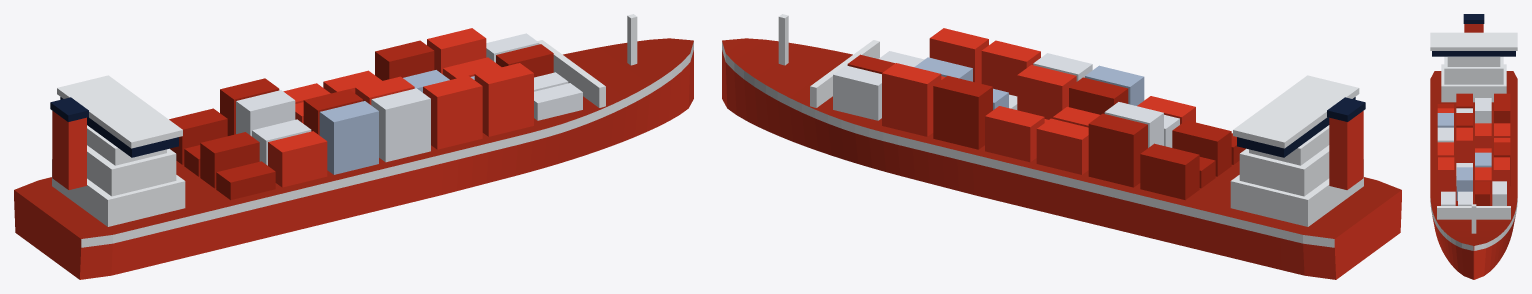
Rendered from ship.glb.
The picture shows the model from 3 angles, left to right: view 1: azimuth 30°, elevation 25°; view 2: azimuth 150°, elevation 25°; view 3: azimuth 270°, elevation 25°; orthographic projection. The views are drawn at different scales.
Parts seen in each view (by area): view 1: Ship; view 2: Ship; view 3: Ship.
Part boxes in pixels (x1,y1,x2,y2): Ship: (14,14,693,279); Ship: (722,14,1401,279); Ship: (1430,14,1517,279).
Size of the model in its own units: 1 by 0.214 by 0.2.
